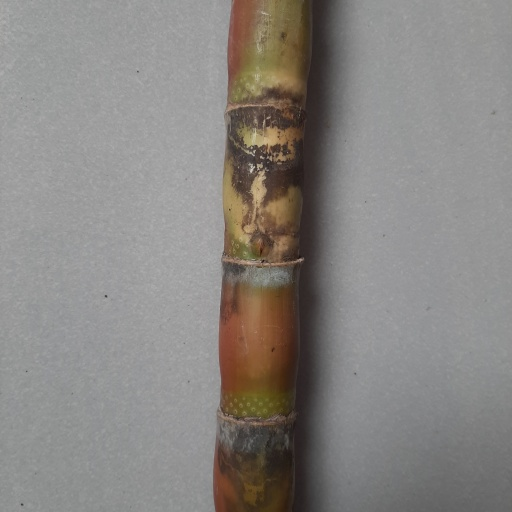Bud: (249, 233, 272, 261)
